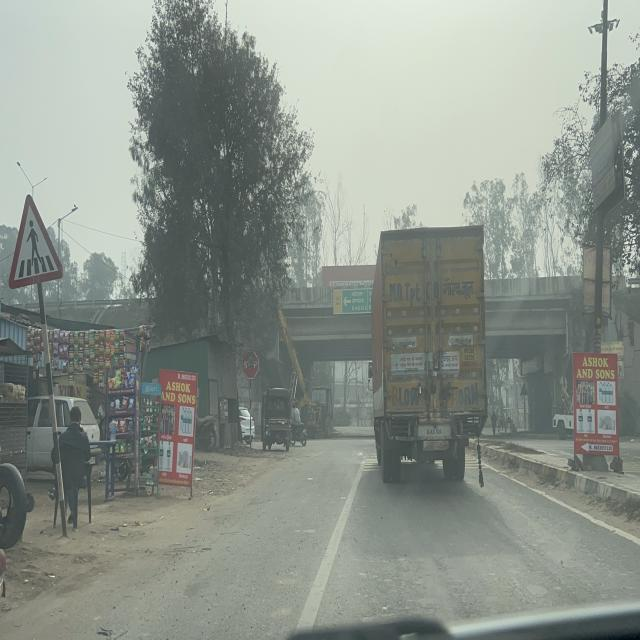GENERAL: (333, 288, 372, 315)
PEDESTRIAN_CROSSING: (8, 194, 63, 289)
STOP: (242, 349, 258, 380)
